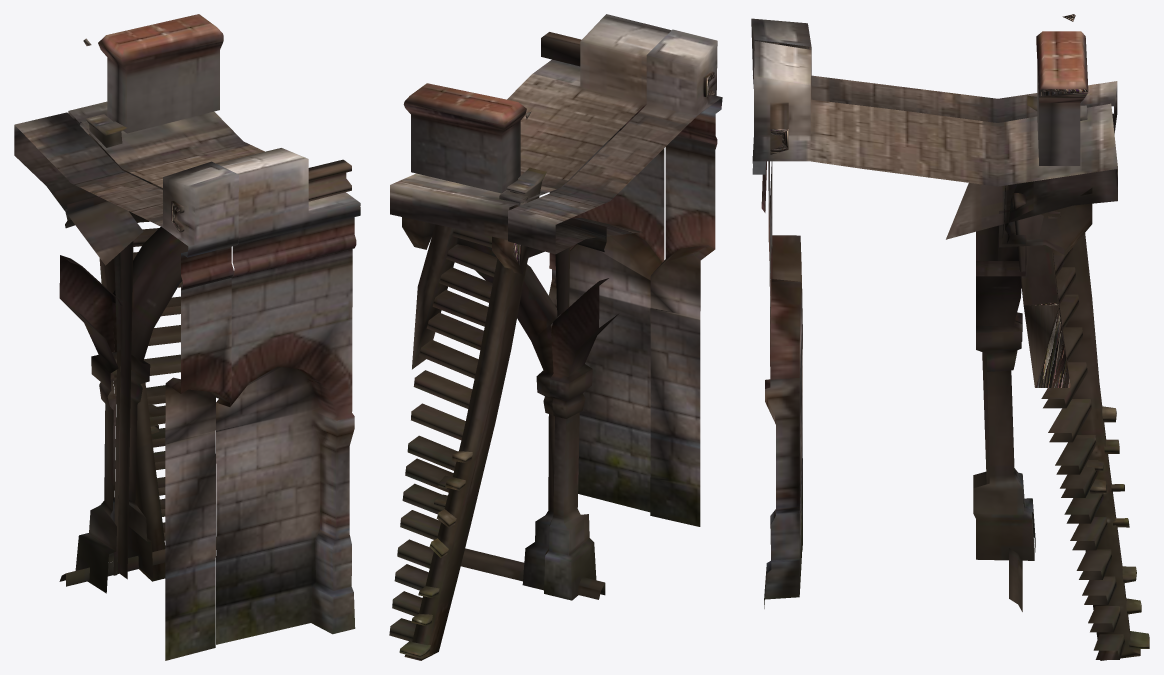
The model's file is WallRunLeft_19.fbx.
3 renders of one model, left to right at view 1: azimuth 30°, elevation 25°; view 2: azimuth 150°, elevation 25°; view 3: azimuth 270°, elevation 25°, orthographic. The views are drawn at different scales.
Visible parts, largest first — view 1: Imported wall section.047; view 2: Imported wall section.047; view 3: Imported wall section.047.
Boxes of the visible parts, <box> form: Imported wall section.047: <box>14,14,360,660</box>; Imported wall section.047: <box>389,14,722,660</box>; Imported wall section.047: <box>751,14,1149,660</box>.
Size of the model in its own units: 200 by 635 by 383.
Materials: 1 (1 with a texture image).
